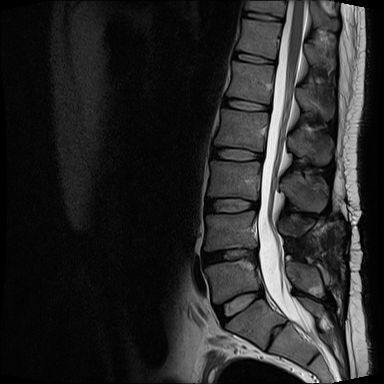Lumbar Disc Bulge (LDB): (195, 235, 267, 272)
Normal IVD: (203, 280, 267, 333), (197, 189, 263, 216), (201, 141, 268, 166), (224, 46, 281, 70), (218, 92, 272, 115), (236, 7, 287, 26)
